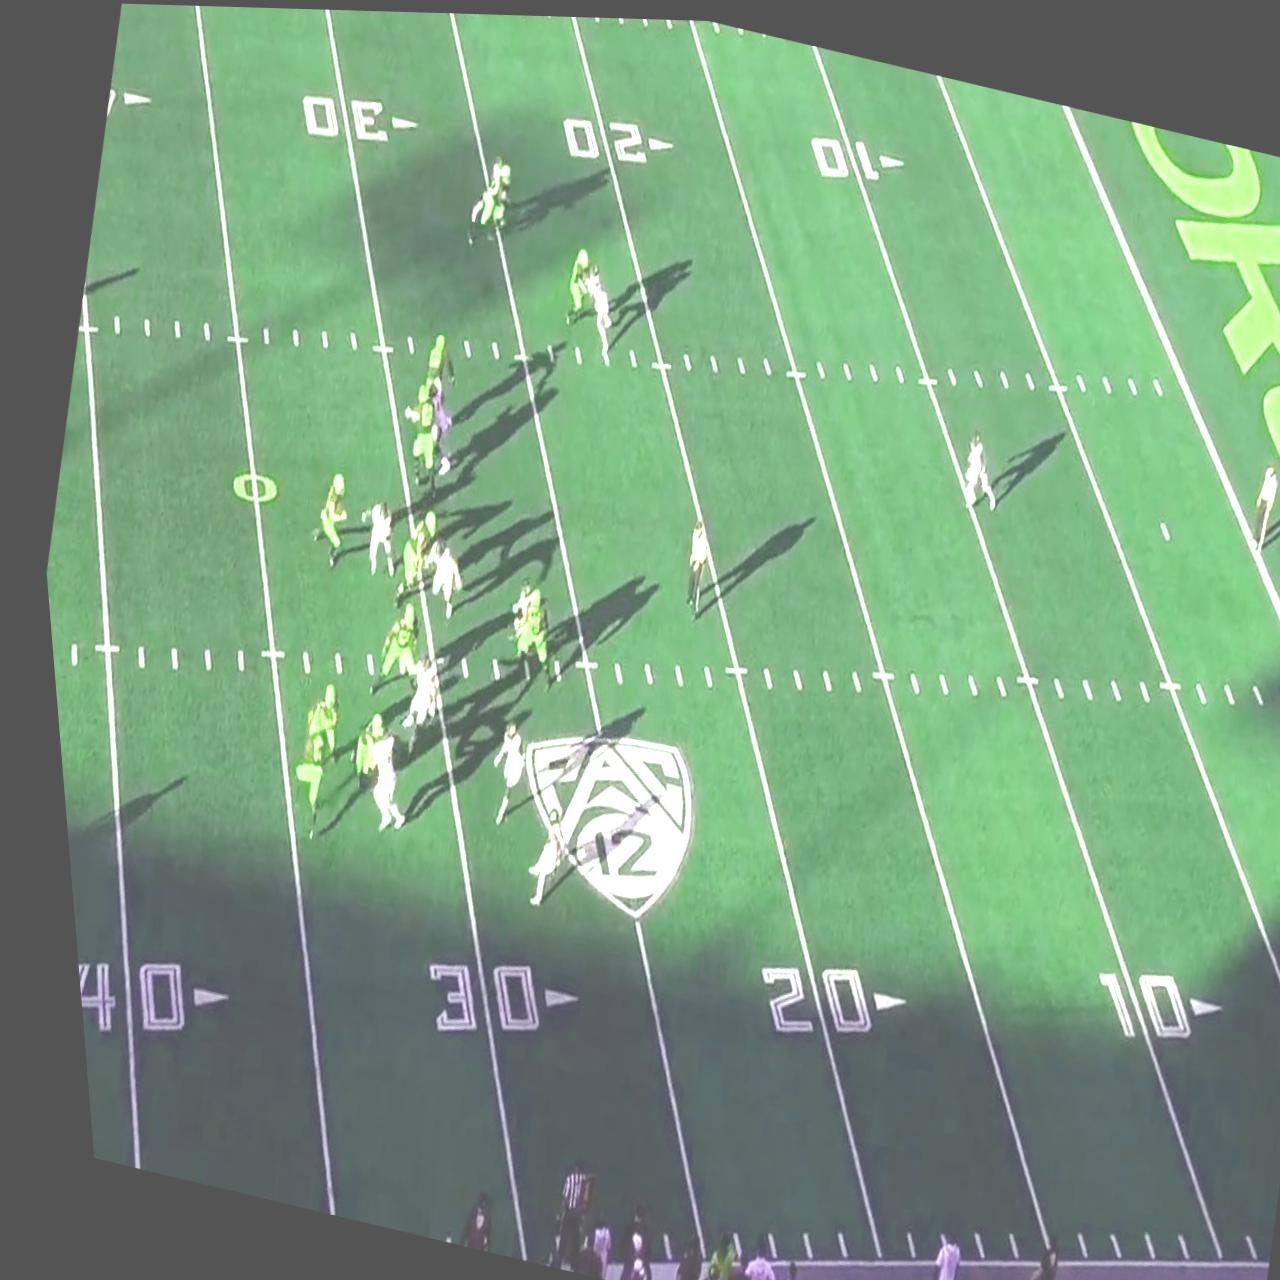10R: (1068, 949, 1213, 1054), (802, 123, 908, 191)
20R: (731, 941, 899, 1057), (551, 98, 679, 175)
30R: (396, 940, 571, 1058), (294, 81, 423, 157)
40R: (60, 931, 220, 1061)
